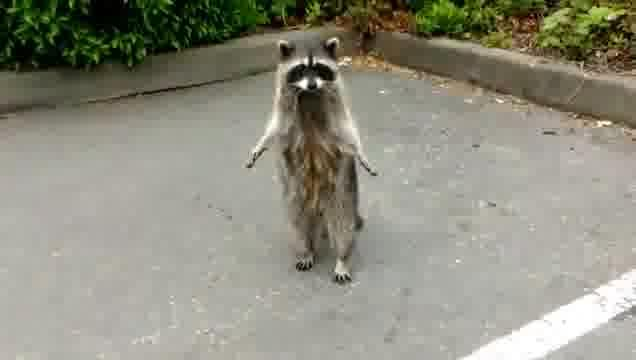raccoon: (246, 36, 379, 289)
